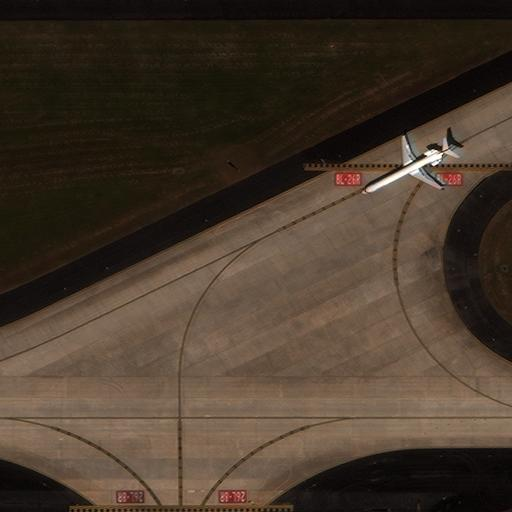Medium Civil Transport: (359, 136, 457, 195)
